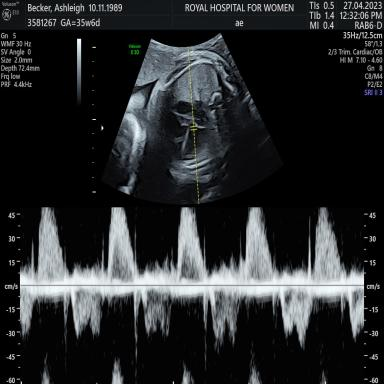Ultrasound-Waves: (25, 205, 363, 384)
